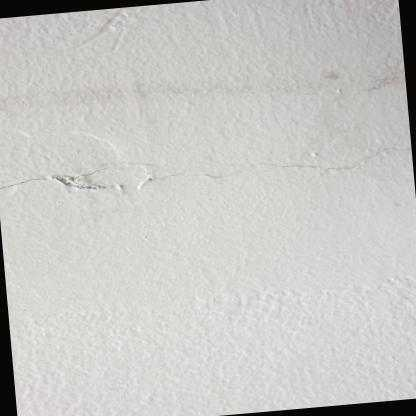crack: (191, 143, 410, 179), (0, 165, 122, 190)
